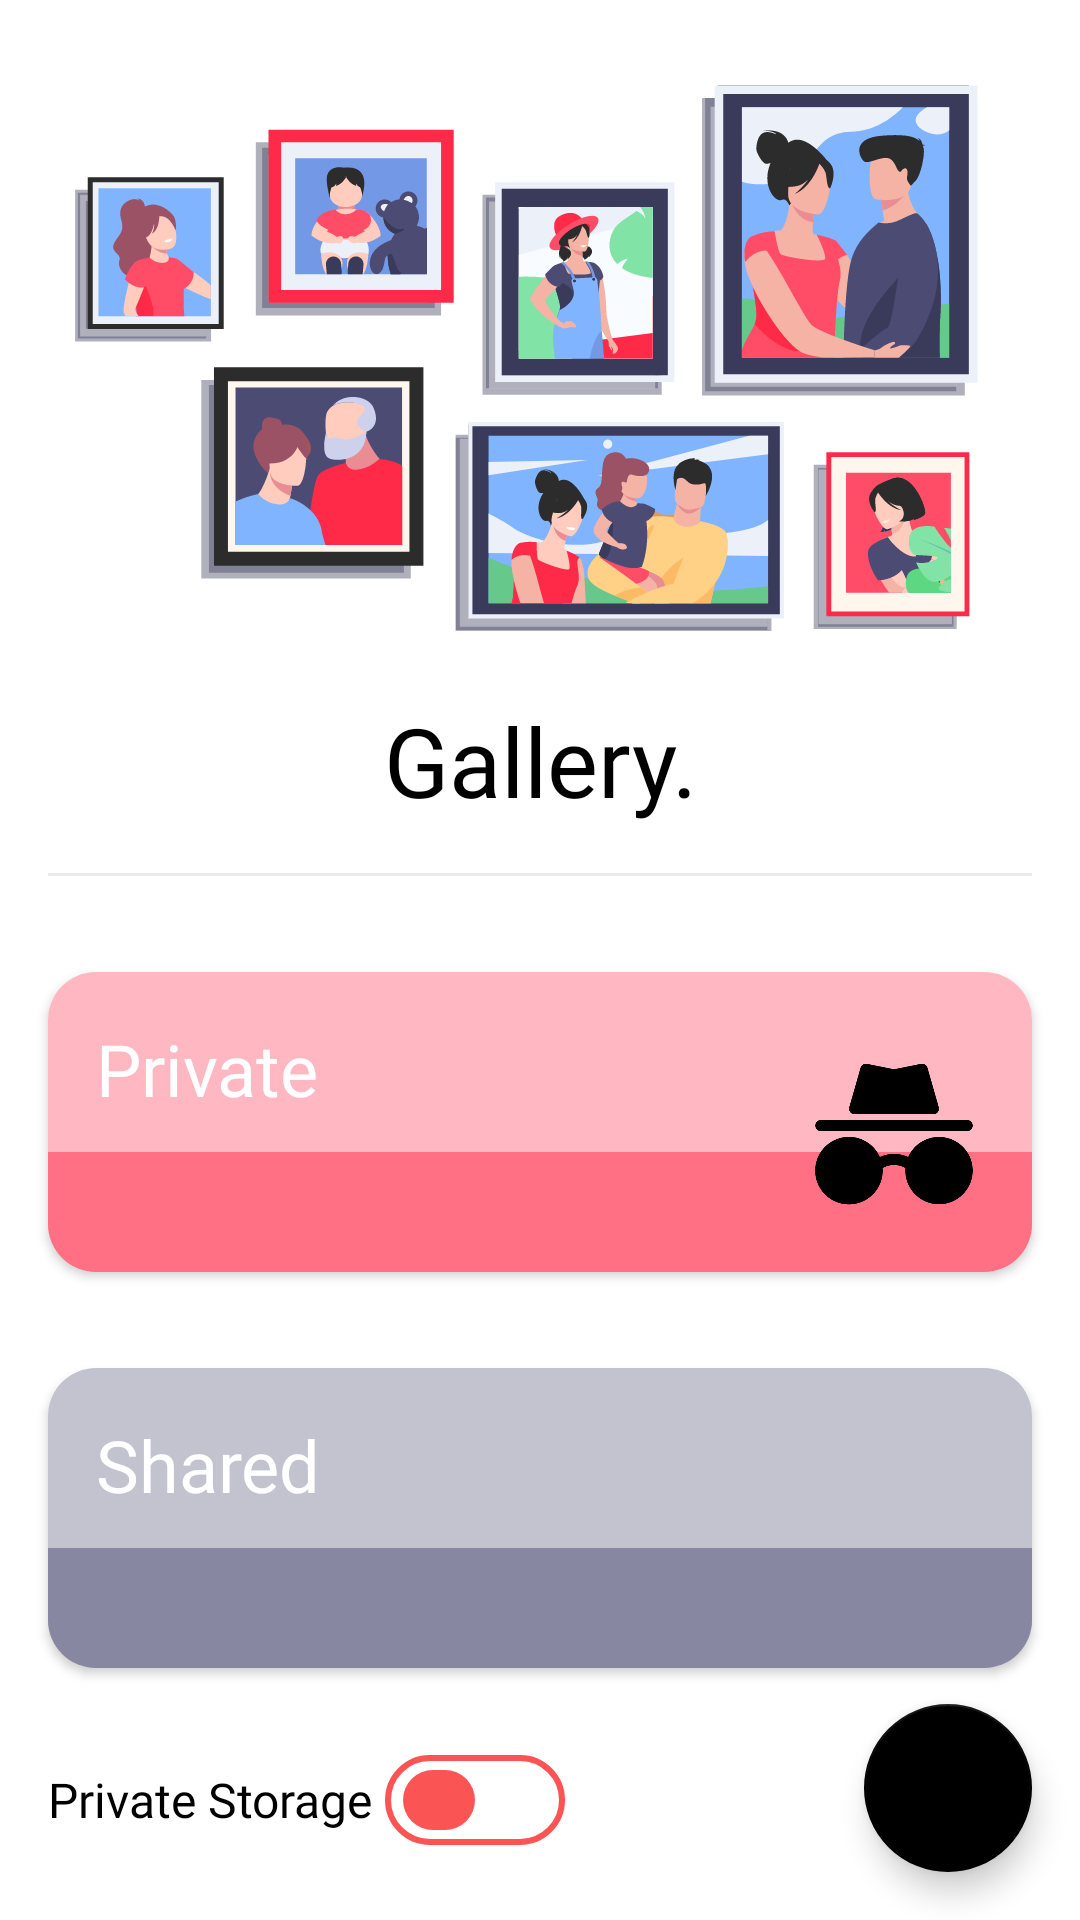

Icons on this 1080x1920 Android screen, each with the point to tap as (x,y):
private: (894,1134)
